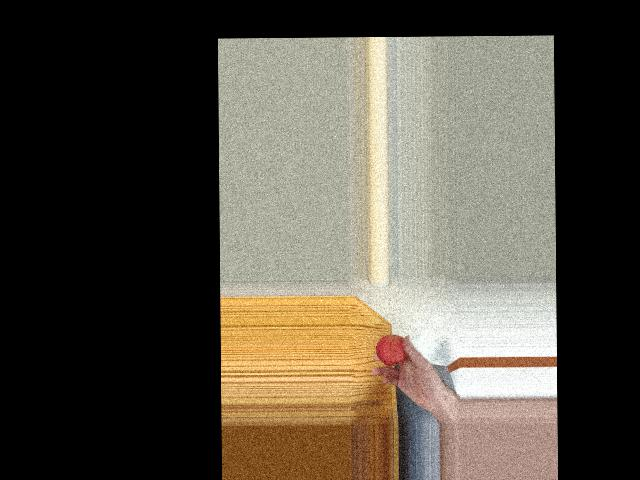apple: (375, 333, 412, 371)
